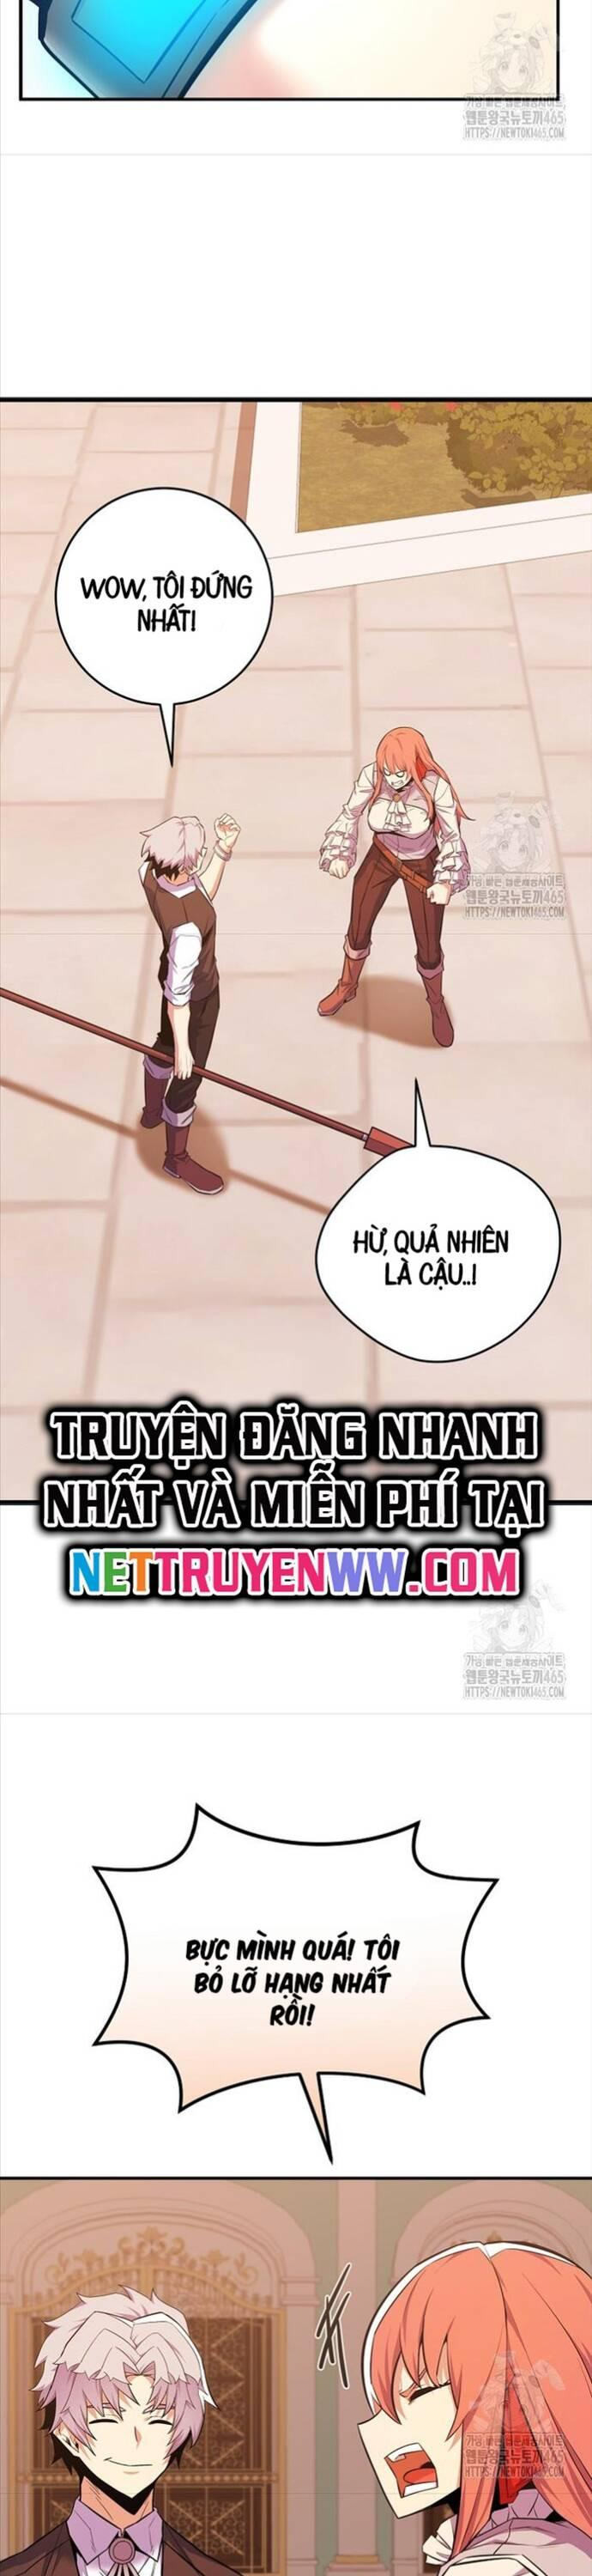quangcao: (39, 1391, 553, 1602)
